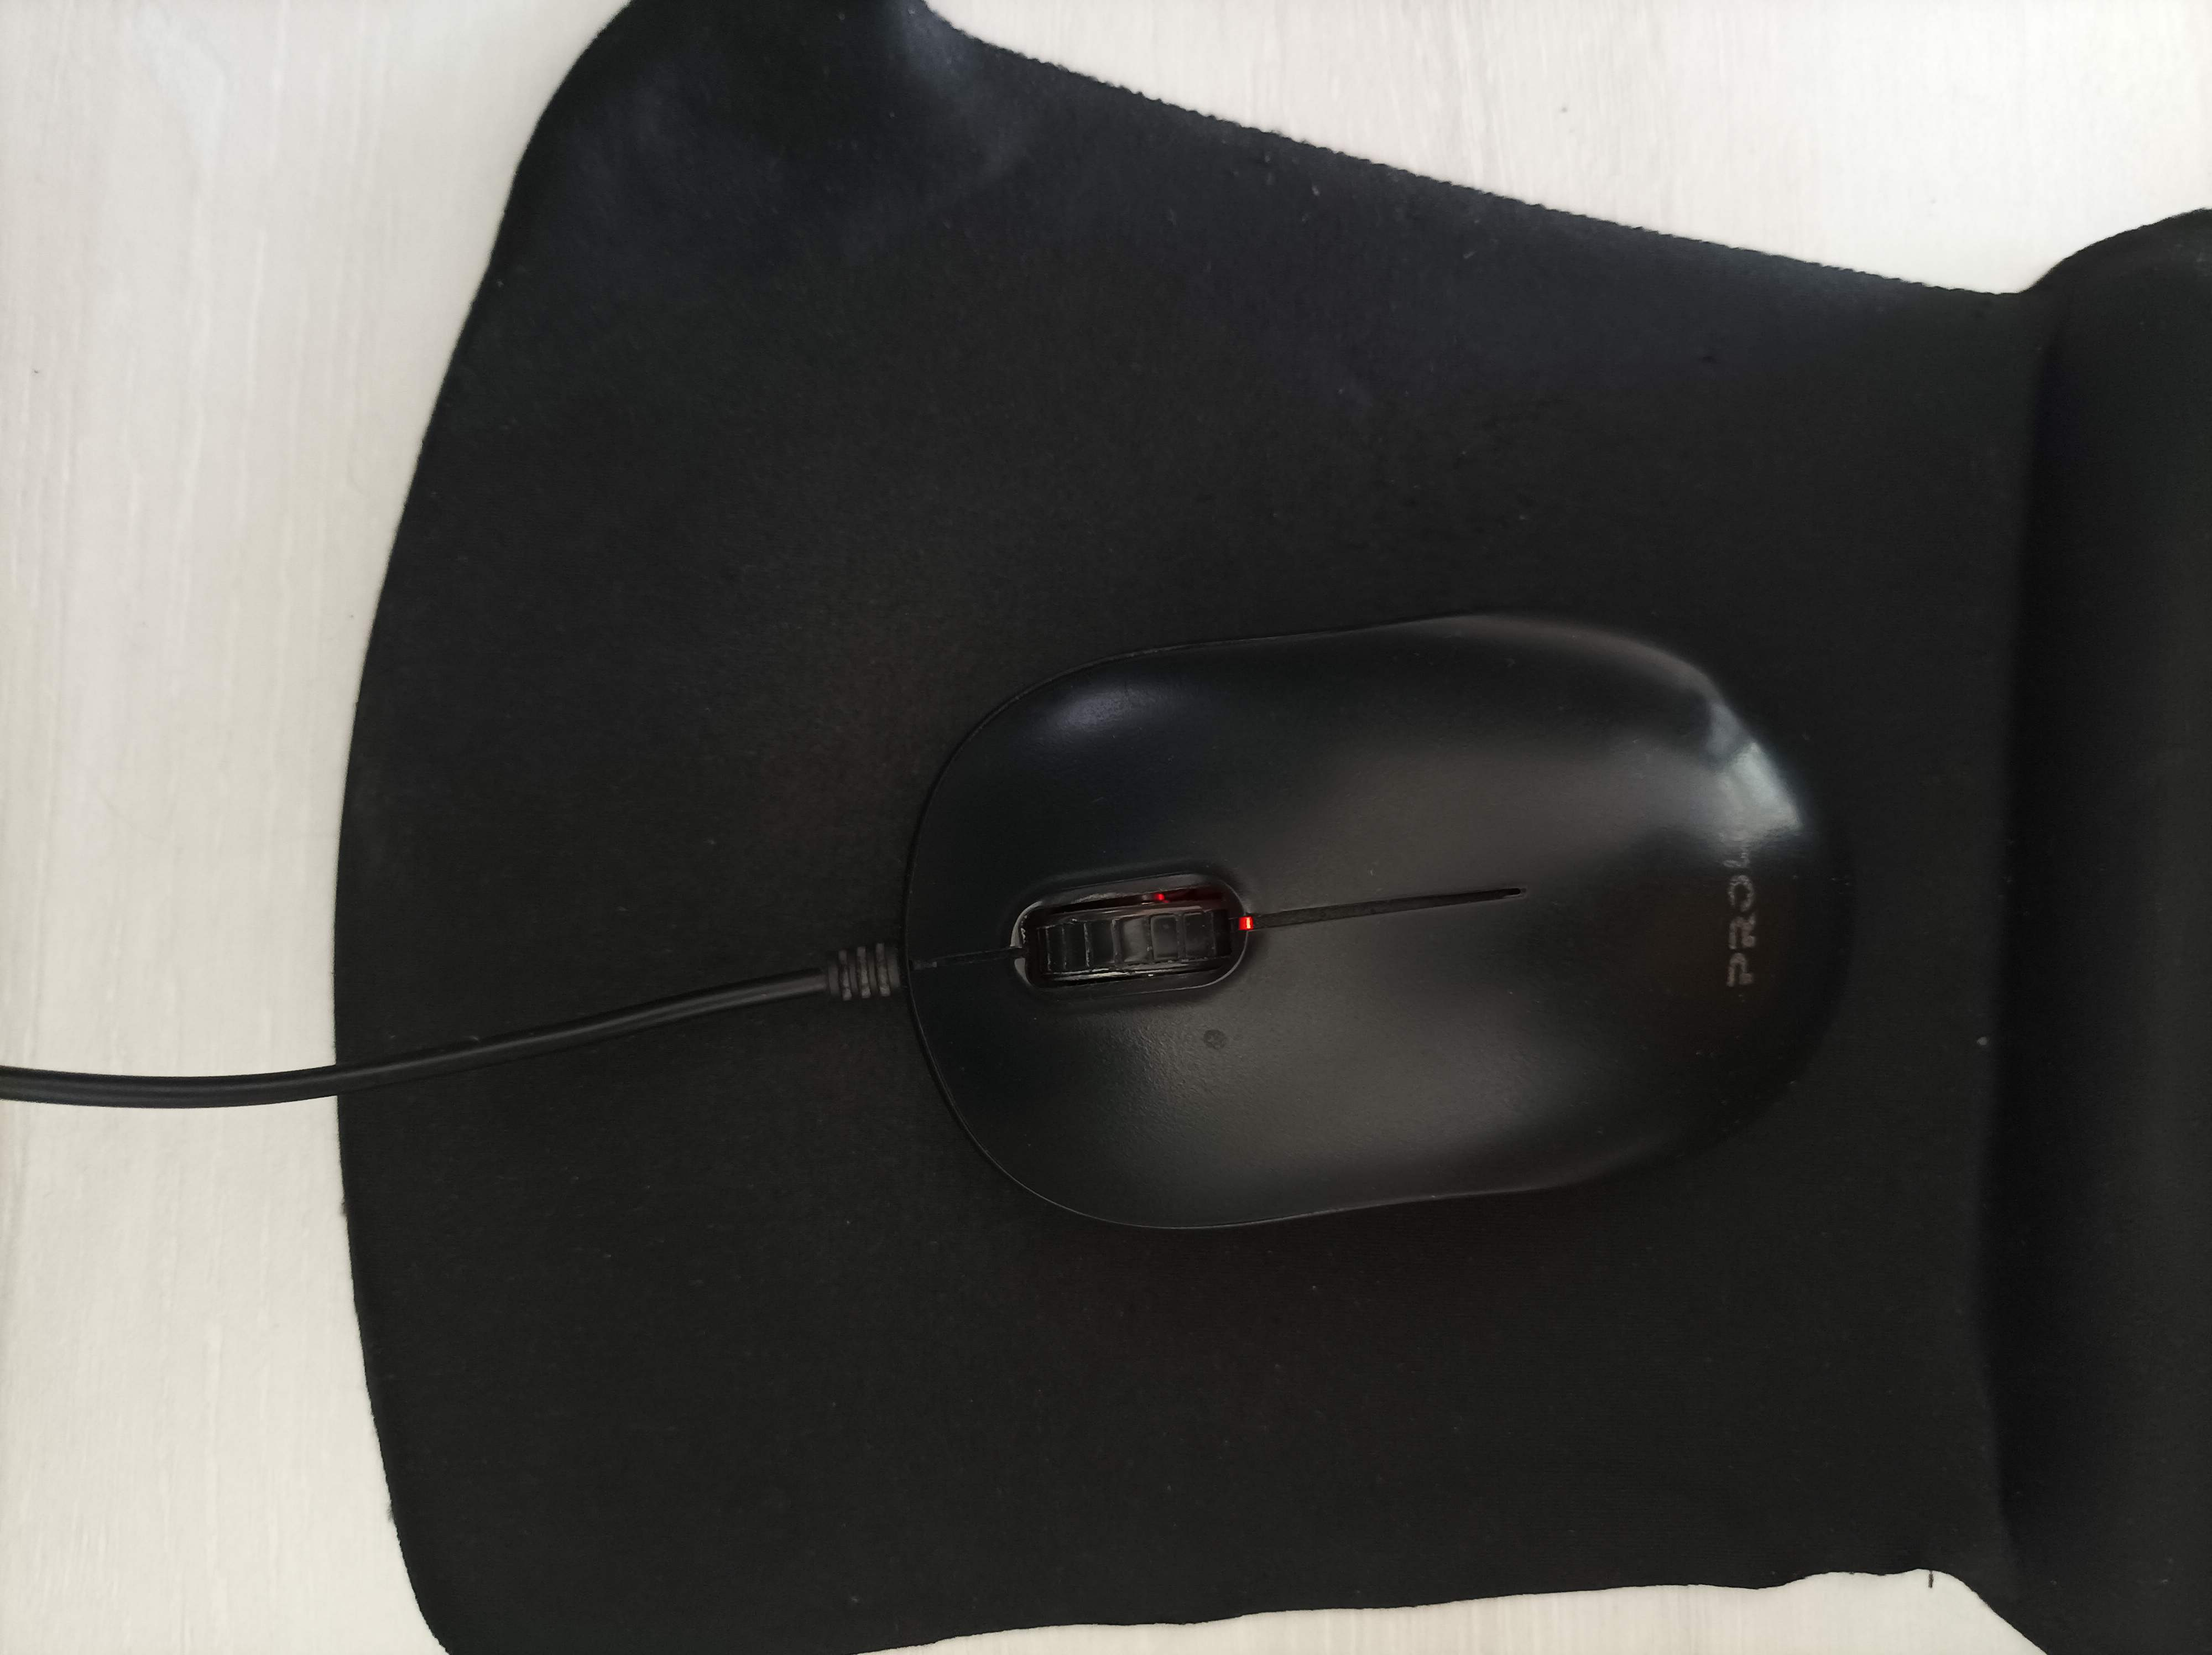mouse: (822, 586, 1864, 1248)
